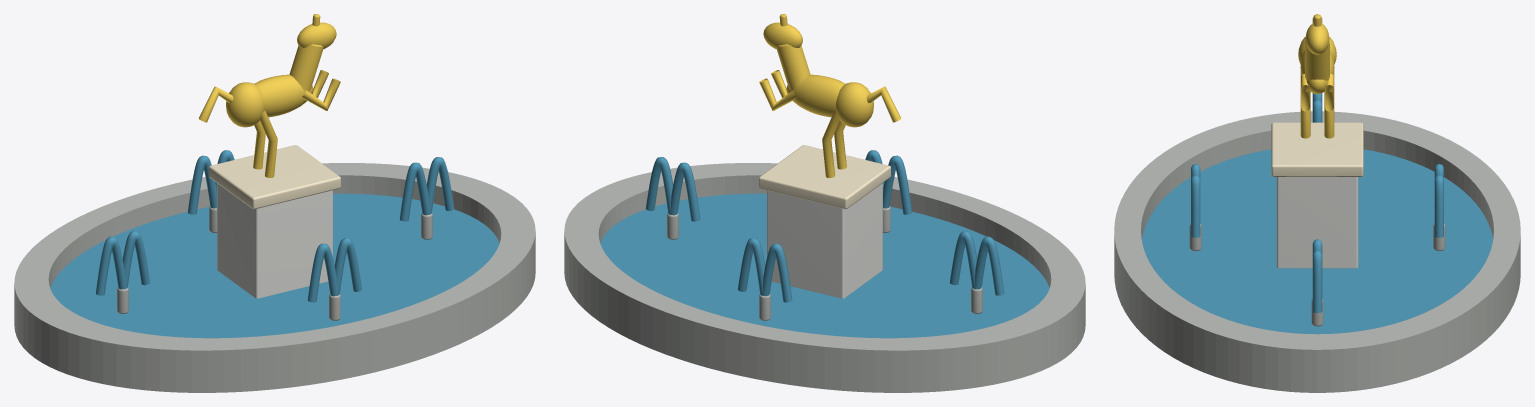
Rendered from asset09.glb.
3 views of the same model, side by side, from view 1: azimuth 30°, elevation 25°; view 2: azimuth 150°, elevation 25°; view 3: azimuth 270°, elevation 25° (orthographic).
Parts seen in each view (by area): view 1: 09_horse_fountain; view 2: 09_horse_fountain; view 3: 09_horse_fountain.
Part boxes in pixels (x1,y1,x2,y2): 09_horse_fountain: [14, 14, 535, 392]; 09_horse_fountain: [564, 14, 1085, 392]; 09_horse_fountain: [1114, 14, 1520, 392].
Size of the model in its own units: 1 by 0.545 by 0.72.
